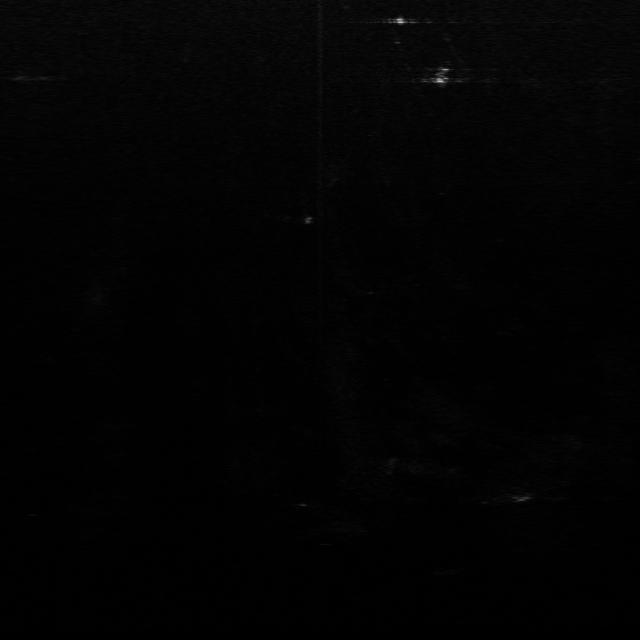rov: (429, 61, 458, 85)
